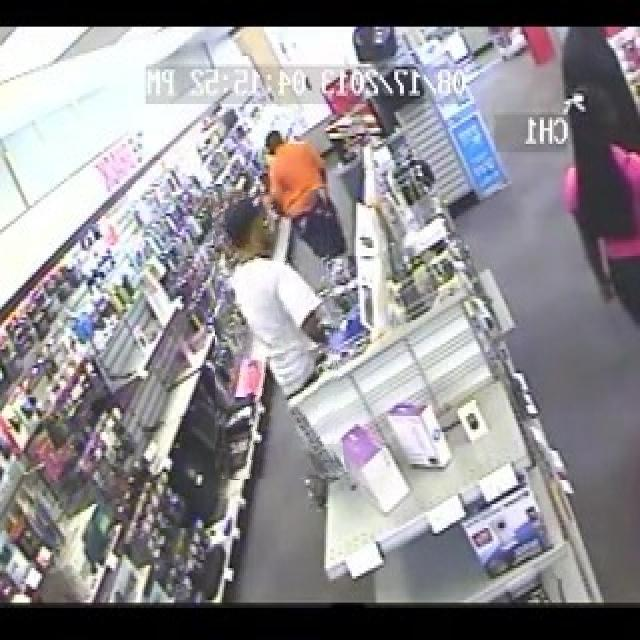normal: (215, 191, 340, 479)
